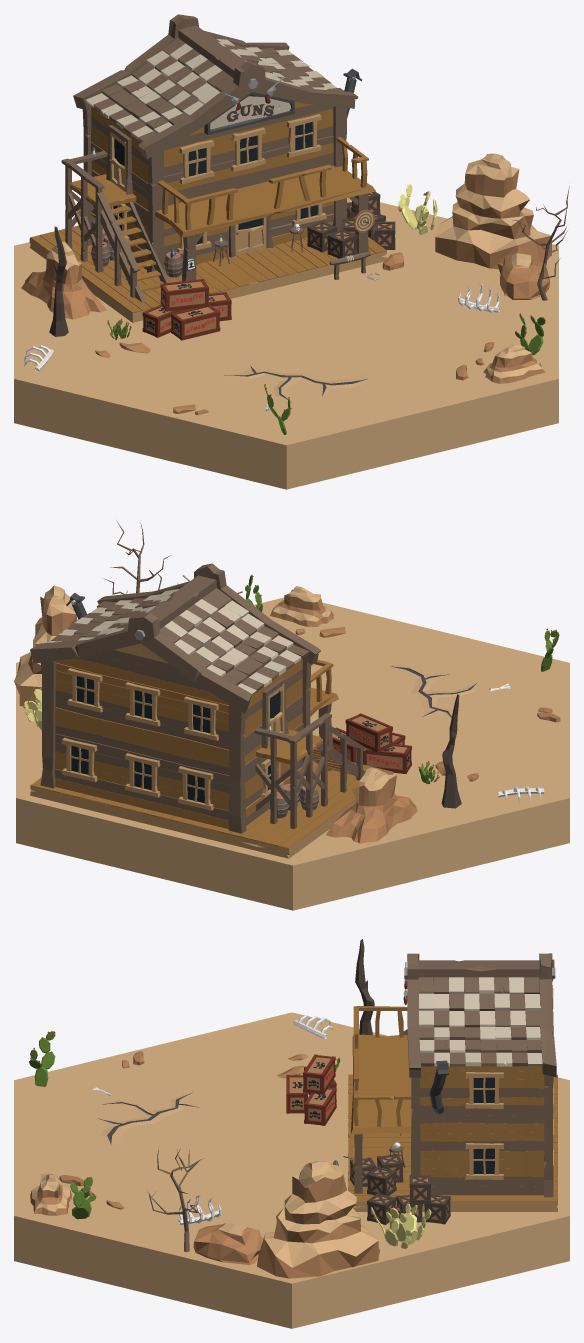
Rendered from Tile_13.fbx.
The picture shows the model from 3 angles, top to bottom: view 1: azimuth 30°, elevation 25°; view 2: azimuth 150°, elevation 25°; view 3: azimuth 270°, elevation 25°; orthographic projection. The views are drawn at different scales.
Visible parts, largest first — view 1: Tile_13_Base, Tile_13_Guns_shop_Building2, Tile_13, Tile_13_Platform, Tile_13_signboard_guns, Tile_13_Crack, Tile_13_Dead_Tree; view 2: Tile_13_Base, Tile_13_Guns_shop_Building2, Tile_13, Tile_13_Platform, Tile_13_Crack, Tile_13_Dead_Tree; view 3: Tile_13_Base, Tile_13_Guns_shop_Building2, Tile_13, Tile_13_Platform, Tile_13_Crack, Tile_13_Dead_Tree.
Part boxes in pixels (x1,y1,x2,y2): Tile_13_Base: (14,198,558,489); Tile_13_Guns_shop_Building2: (61,14,375,302); Tile_13: (21,78,569,434); Tile_13_Platform: (29,225,386,322); Tile_13_signboard_guns: (204,92,294,134); Tile_13_Crack: (224,365,367,401); Tile_13_Dead_Tree: (49,226,68,336); Tile_13_Base: (16,597,569,910); Tile_13_Guns_shop_Building2: (30,563,366,833); Tile_13: (14,520,560,843); Tile_13_Platform: (30,760,393,858); Tile_13_Crack: (383,664,476,719); Tile_13_Dead_Tree: (441,694,461,808); Tile_13_Base: (14,1012,569,1328); Tile_13_Guns_shop_Building2: (351,953,556,1197); Tile_13: (29,962,450,1278); Tile_13_Platform: (348,1074,557,1211); Tile_13_Crack: (98,1092,198,1144); Tile_13_Dead_Tree: (355,939,374,1034).
Bounding box in the file's own units: 2318 × 2007 × 996.
